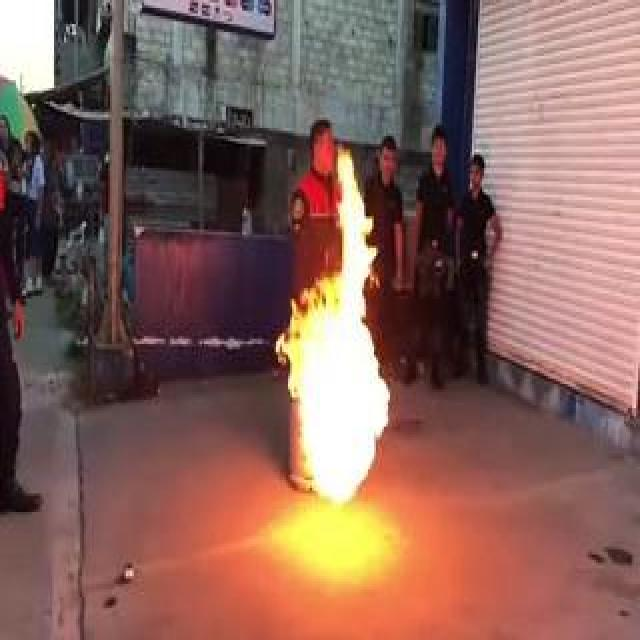Fire: (276, 179, 396, 517)
